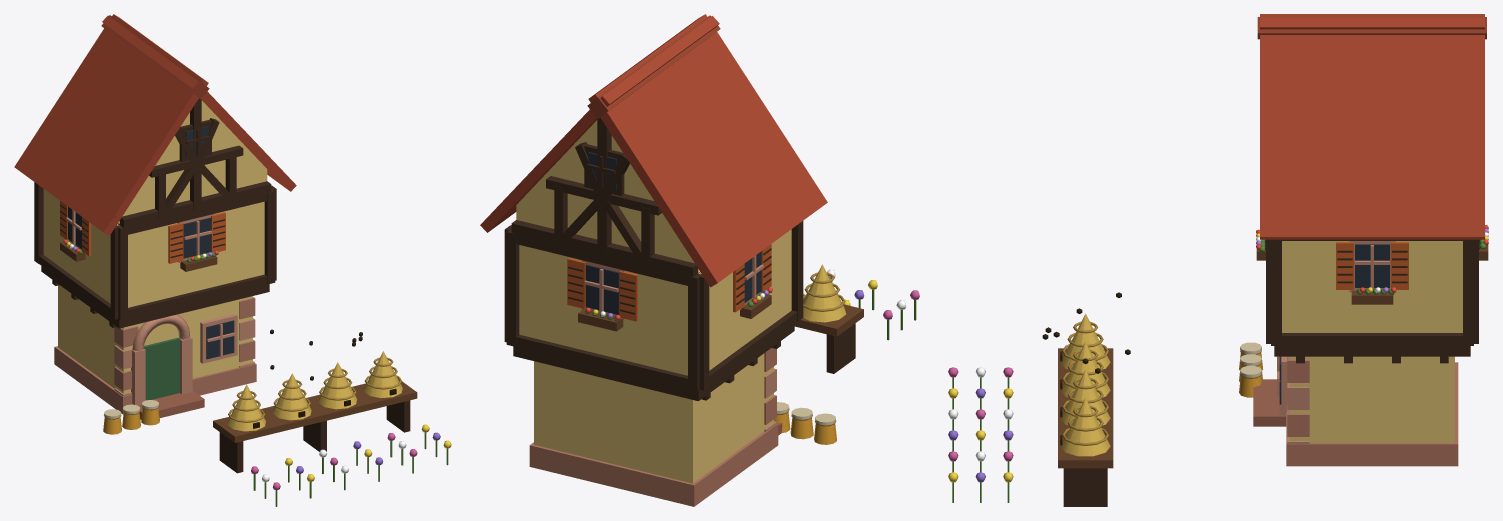
Rendered from imker.glb.
The picture shows the model from 3 angles, left to right: view 1: azimuth 30°, elevation 25°; view 2: azimuth 150°, elevation 25°; view 3: azimuth 270°, elevation 25°; orthographic projection. The views are drawn at different scales.
Bounding box in the file's own units: 3.1 × 4.1 × 4.9.
